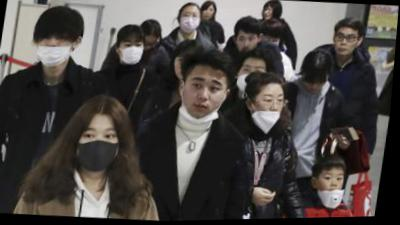NONE: (334, 30, 362, 59), (236, 32, 260, 56), (304, 77, 330, 96), (263, 6, 277, 22), (202, 7, 216, 22)
OK: (75, 120, 128, 174), (236, 61, 271, 97), (119, 36, 147, 67), (180, 9, 203, 33)
WRONG: (180, 71, 231, 123), (35, 26, 78, 70), (254, 90, 288, 128), (321, 171, 350, 201)
